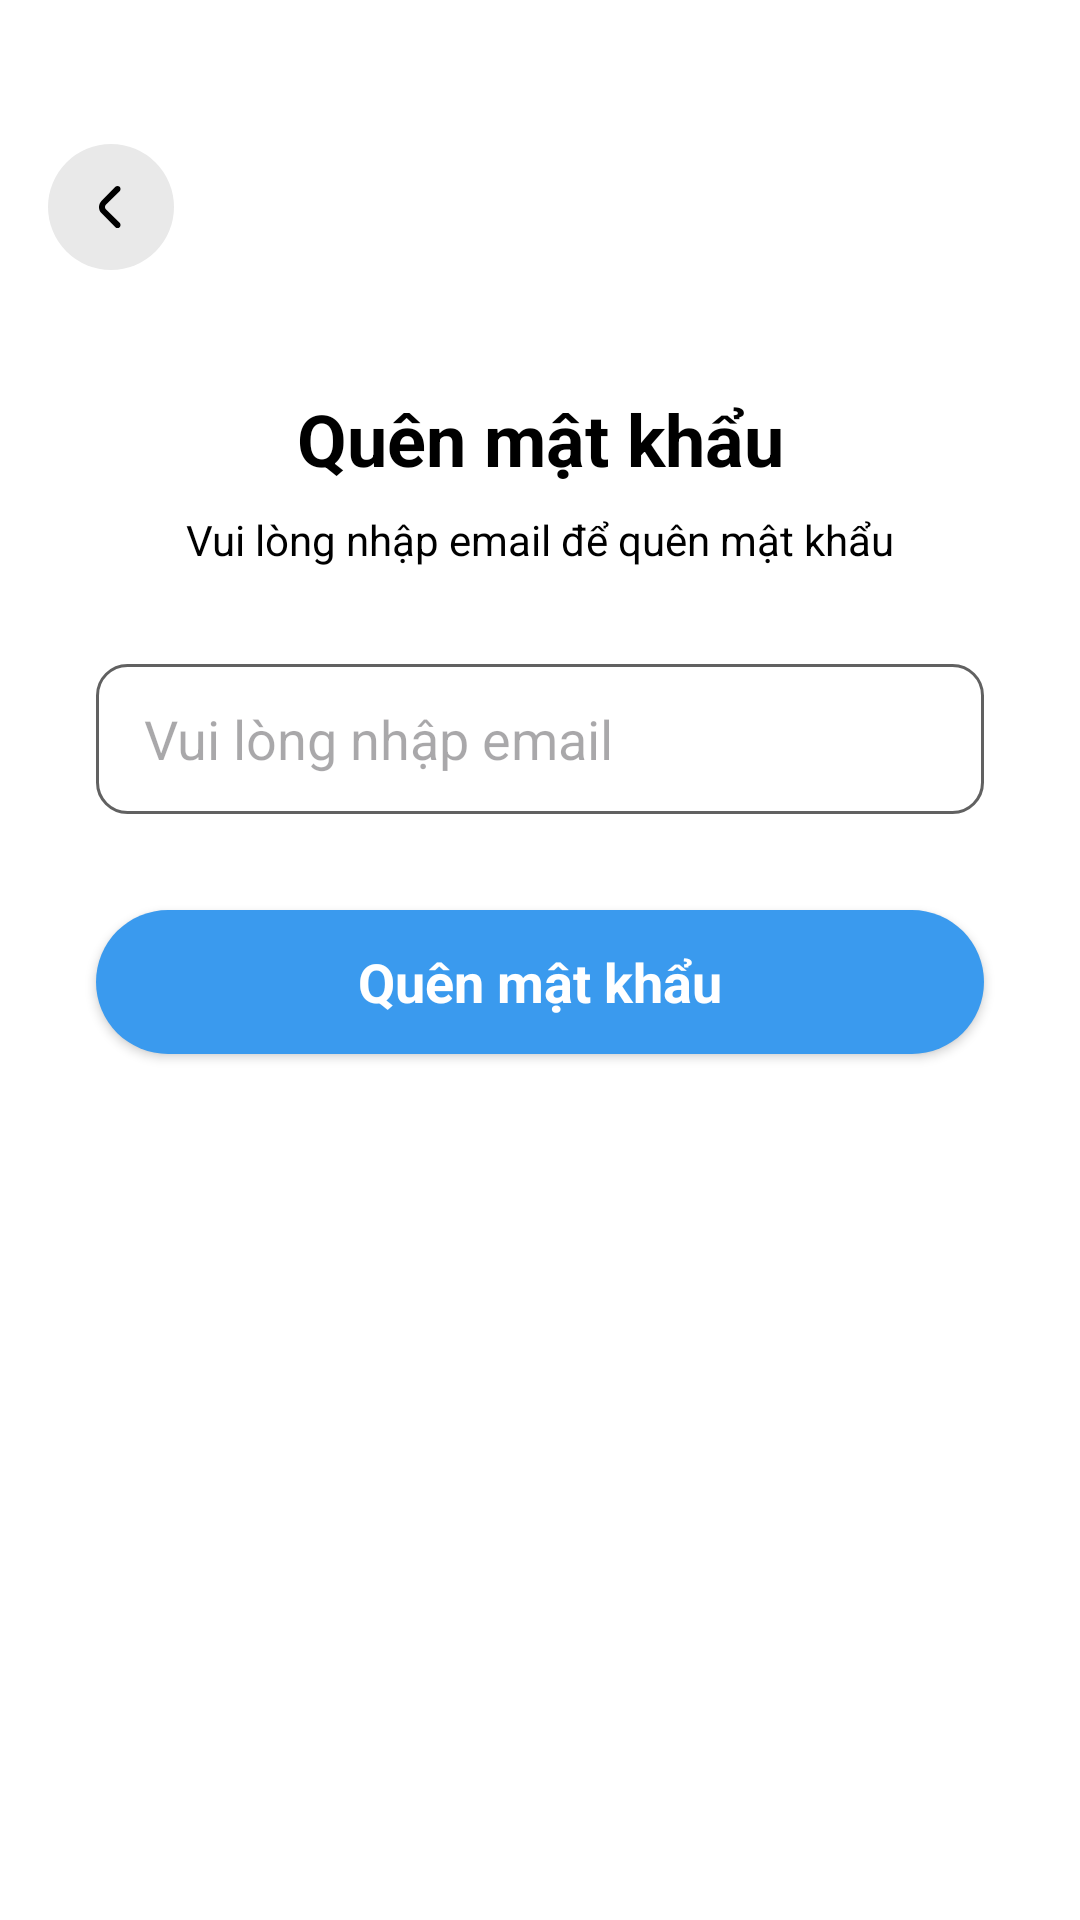

Locate icon controls on the screen. Image size 1080 × 1920, boxes as (x1, y1, x2, y2).
back: (48, 144, 174, 270)
